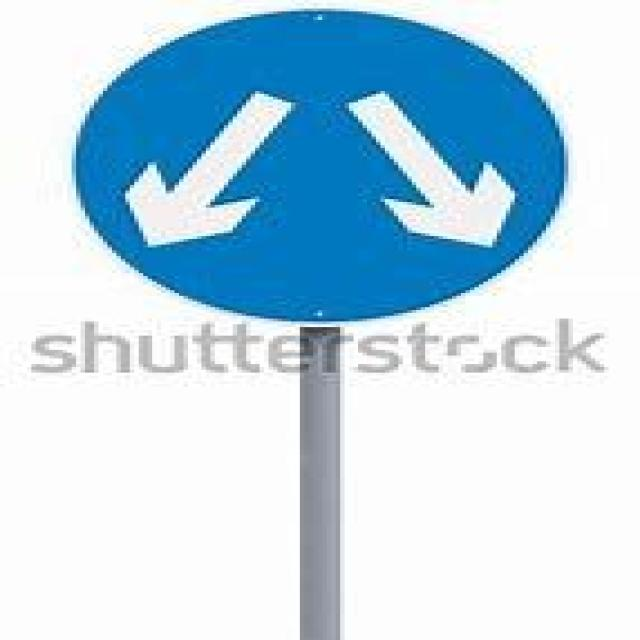PASS_EITHER_SIDE: (73, 13, 570, 322)
